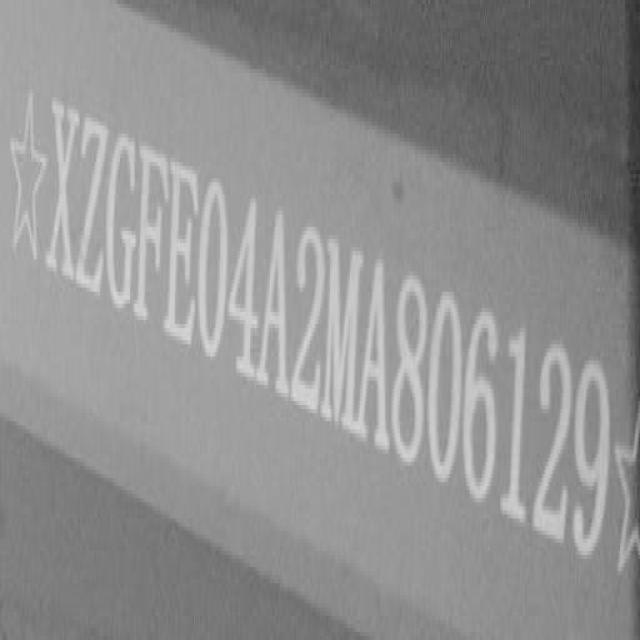0: (428, 288, 462, 492), (199, 173, 230, 372)
1: (497, 330, 529, 537)
2: (537, 341, 574, 561), (291, 216, 324, 424)
4: (228, 188, 261, 390)
6: (463, 306, 500, 514)
8: (394, 264, 428, 477)
9: (574, 354, 612, 570)
A: (258, 210, 292, 416), (359, 252, 391, 456)
E: (168, 163, 199, 361)
F: (137, 138, 168, 336)
G: (108, 122, 138, 320)
M: (326, 234, 364, 441)
X: (49, 90, 79, 290)
Z: (76, 98, 108, 310)
